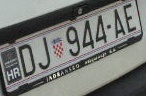4: (80, 19, 95, 52)
9: (64, 26, 83, 57)
A: (93, 15, 112, 47), (112, 7, 125, 40)
D: (19, 44, 40, 78)
E: (122, 2, 138, 33)
J: (36, 36, 54, 71)
